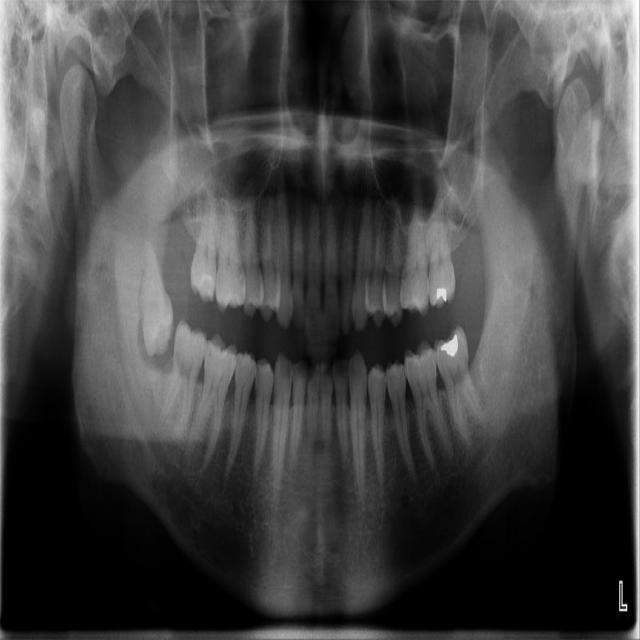52: (421, 321, 482, 381), (428, 257, 457, 310)
73: (580, 538, 584, 554)
BioHorizons Implant: (428, 161, 457, 308)
Blue Sky Bio Implant: (428, 321, 492, 454)
Caries: (189, 160, 219, 303)
Implant: (154, 319, 212, 446)
Keystone Dental Implant: (128, 232, 179, 359)
